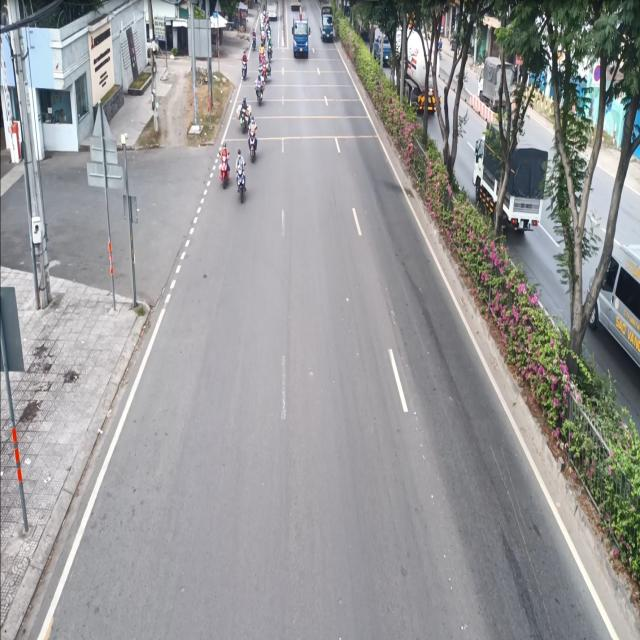motor: (233, 148, 249, 205), (218, 140, 231, 186), (247, 119, 259, 158)
truck: (318, 0, 337, 44)
